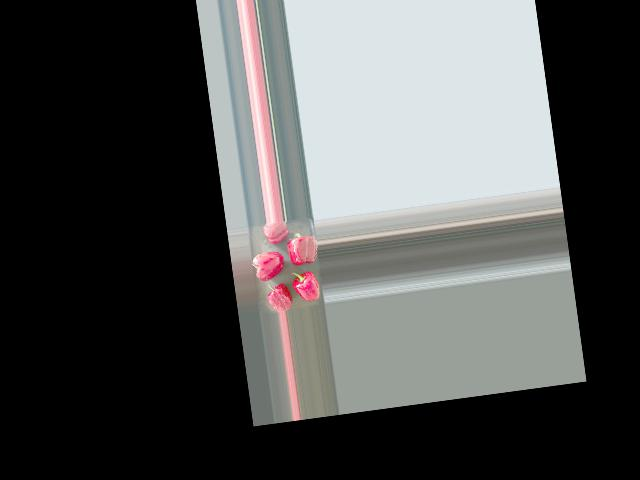bell_pepper: (257, 220, 291, 246)
